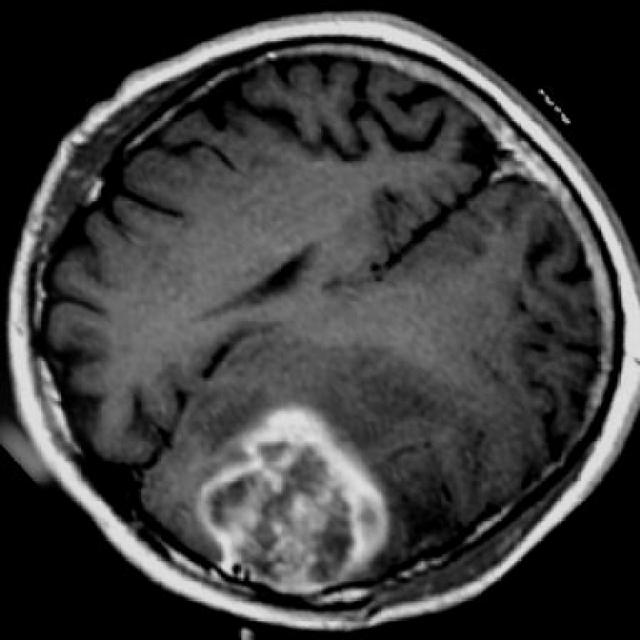Brain-Tumor: (190, 407, 392, 613)
